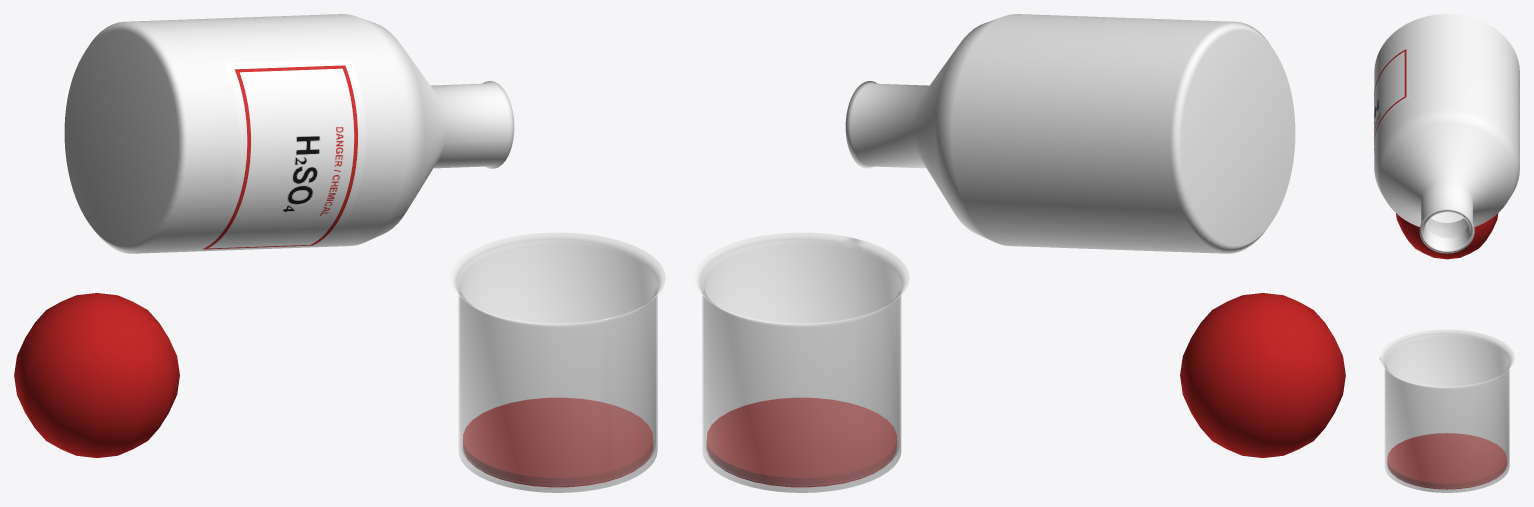
File: fluid_simulation_scene.gltf
3 renders of one model, left to right at view 1: azimuth 30°, elevation 25°; view 2: azimuth 150°, elevation 25°; view 3: azimuth 270°, elevation 25°, orthographic. The views are drawn at different scales.
Visible parts, largest first — view 1: Pivot_bottle_1793033711316_607, Container_container_1793033711317_857, object 4, Fluid_container_1793033711317_857; view 2: Pivot_bottle_1793033711316_607, Container_container_1793033711317_857, object 4, Fluid_container_1793033711317_857; view 3: Pivot_bottle_1793033711316_607, Container_container_1793033711317_857, Fluid_container_1793033711317_857, object 4.
Boxes of the visible parts, x1,y1,x2,y2 form: Pivot_bottle_1793033711316_607: (64,14,514,253); Container_container_1793033711317_857: (450,232,665,492); object 4: (14,293,179,457); Fluid_container_1793033711317_857: (463,398,652,487); Pivot_bottle_1793033711316_607: (845,14,1295,253); Container_container_1793033711317_857: (694,232,909,492); object 4: (1180,293,1345,457); Fluid_container_1793033711317_857: (707,398,896,487); Pivot_bottle_1793033711316_607: (1374,14,1519,253); Container_container_1793033711317_857: (1379,329,1514,492); Fluid_container_1793033711317_857: (1387,433,1506,489); object 4: (1396,213,1498,259).
Bounding box in the file's own units: 8.72 × 6.93 × 2.8.
Materials: 4 (1 with a texture image).
